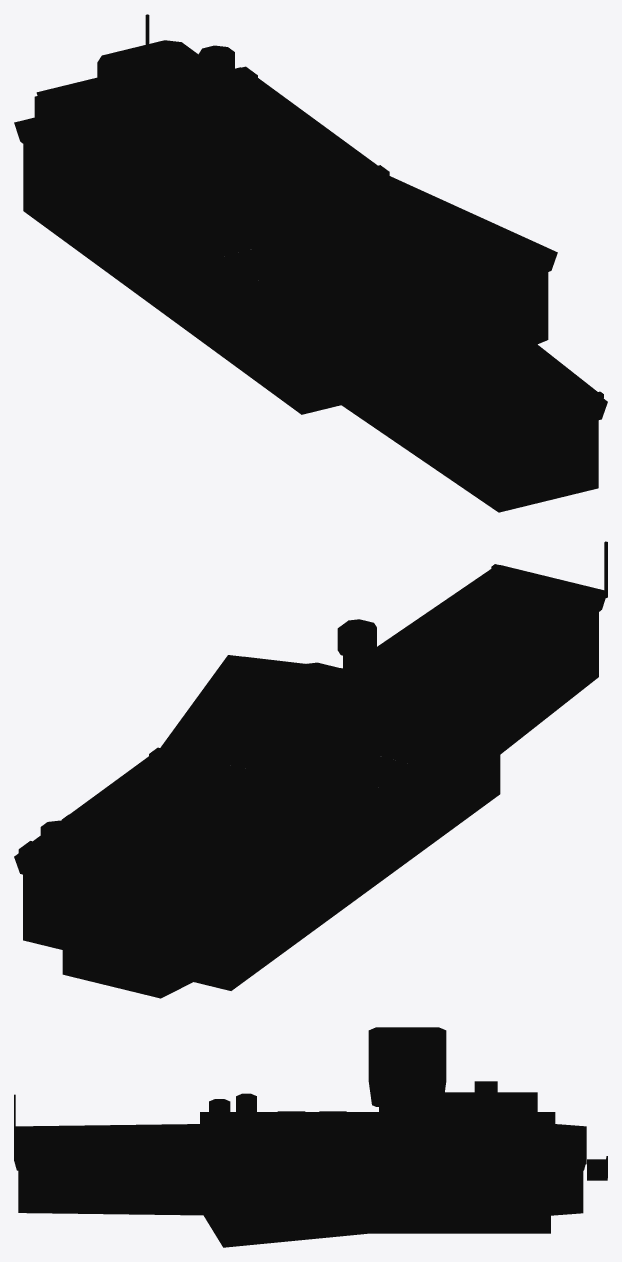
File: Chunk6.obj
3 views of the same model, one above another, from view 1: azimuth 30°, elevation 25°; view 2: azimuth 150°, elevation 25°; view 3: azimuth 270°, elevation 25° (orthographic). The views are drawn at different scales.
Bounding box in the file's own units: 895 × 655 × 2592.
